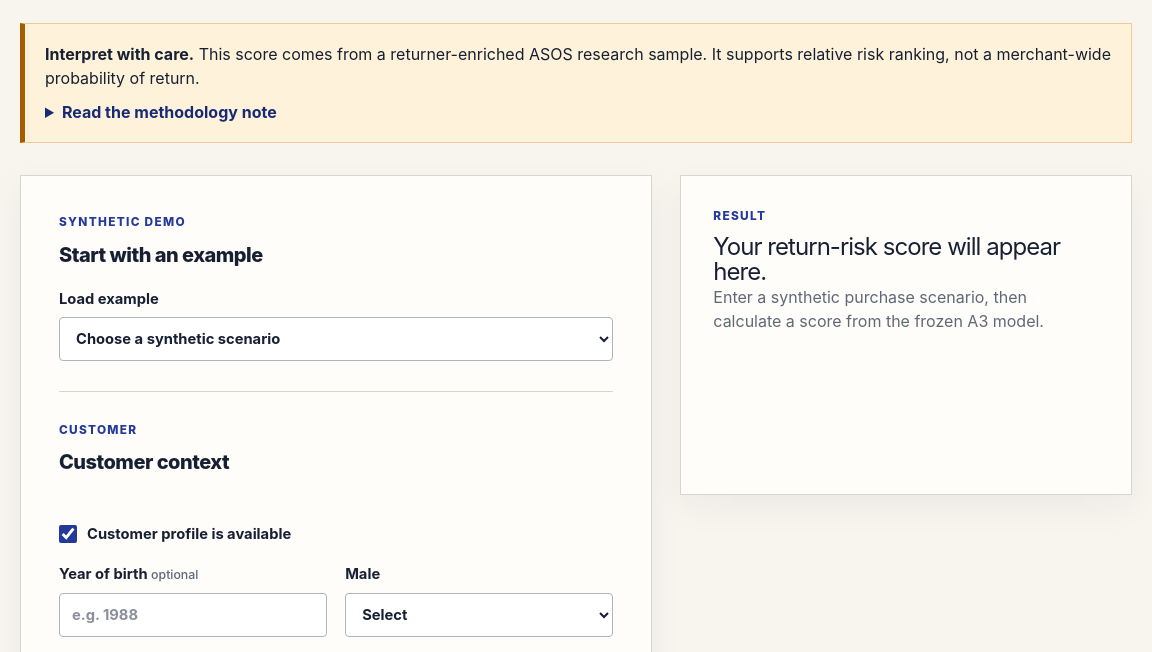
Test: PredictionWorkspace › requests an explanation only for the saved score snapshot
This screenshot has width=1152, height=652.
(page scrolled)
Step 1. Select "Complete profile" in the dropdown labelled "Load example" → (336, 339), box top-left (59, 317), bottom-right (613, 361)
(page scrolled)
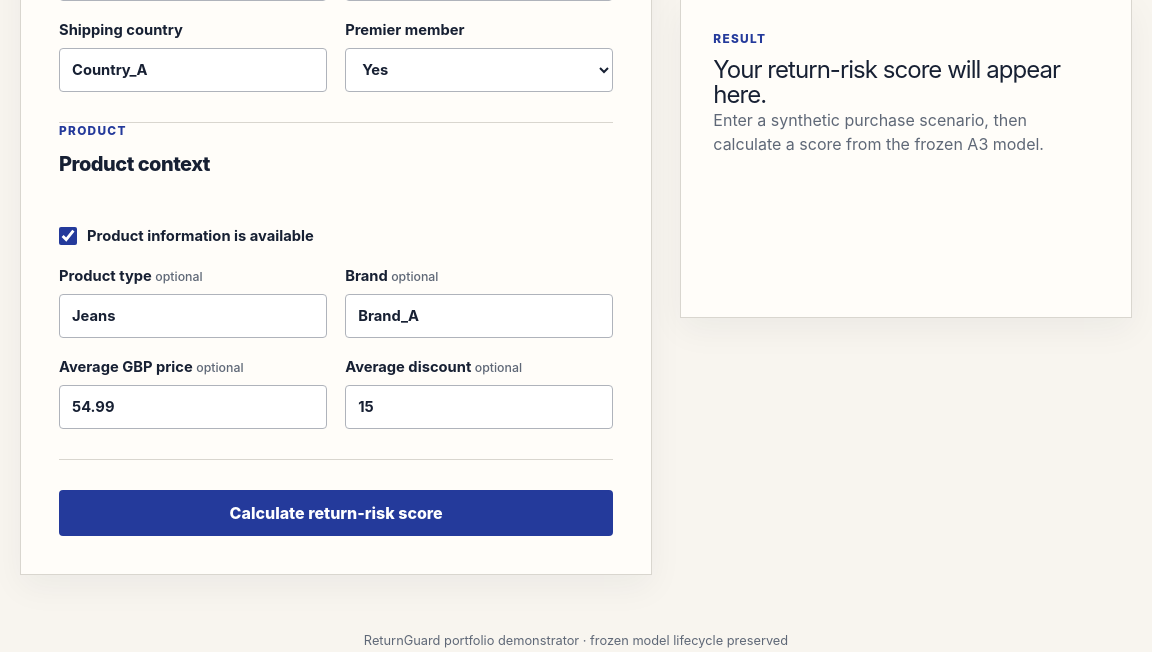
Step 2. Click the button "Calculate return-risk score" → click(336, 513), box top-left (59, 490), bottom-right (613, 536)
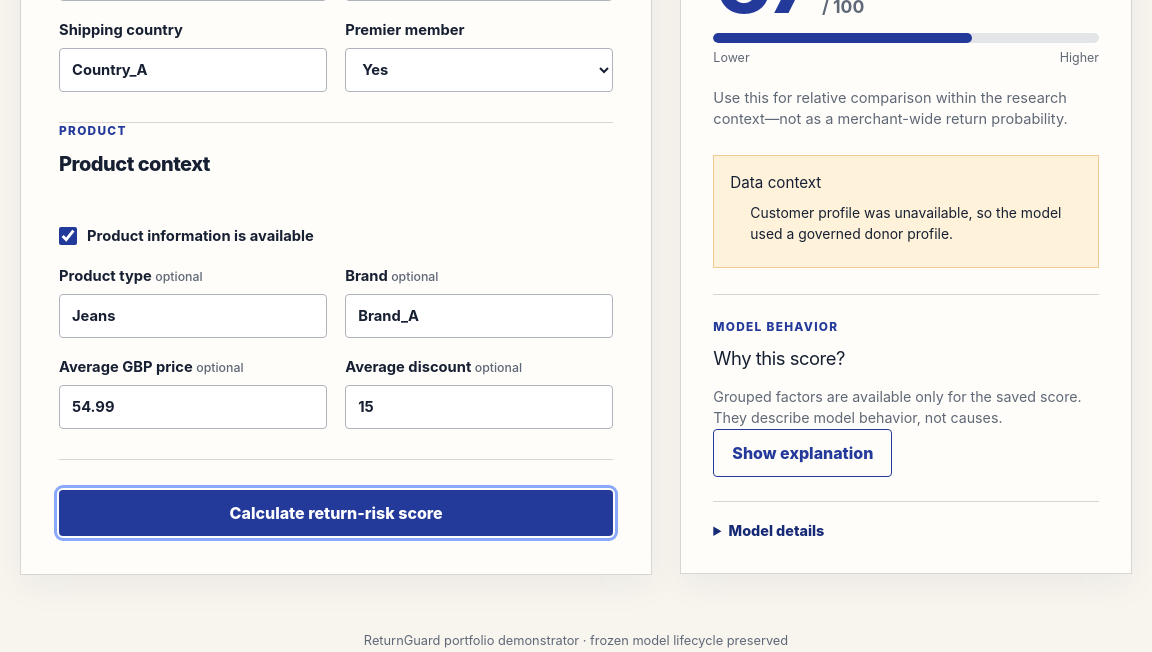
Step 3. Click the button "Show explanation" → click(803, 453), box top-left (713, 429), bottom-right (892, 477)
(page scrolled)
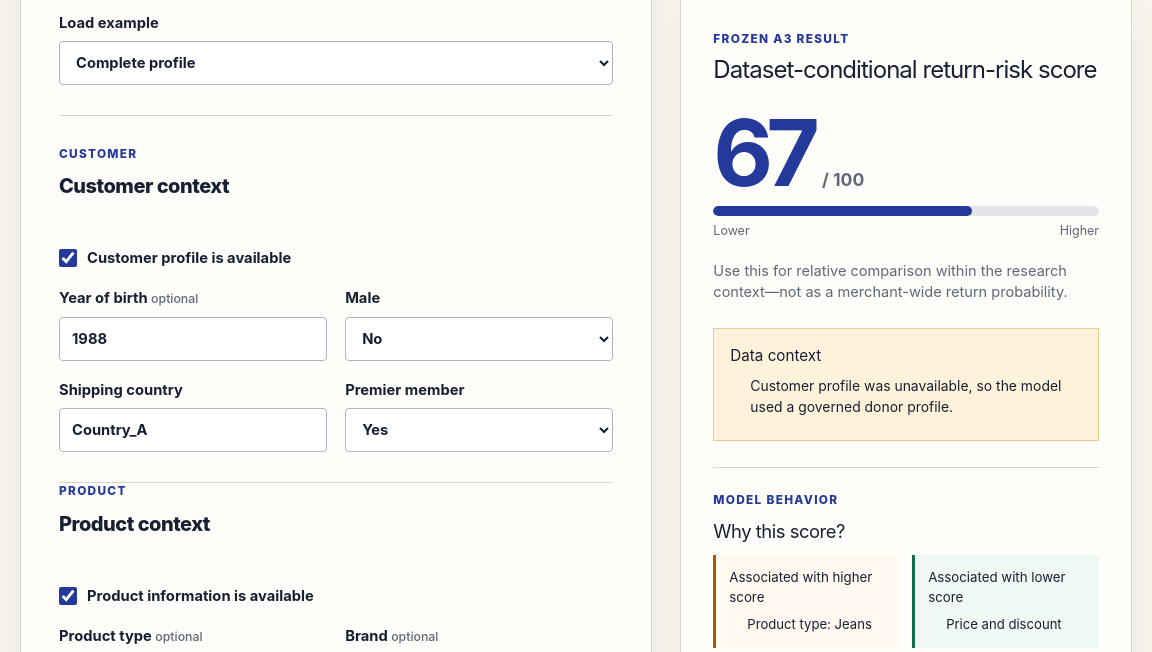
Now the heading "Associated with higher score" is shown, box top-left (729, 568), bottom-right (887, 608)
Step 4. Replace the text in the field labelled "Year of birth optional" with "1989" → (193, 339), box top-left (59, 316), bottom-right (327, 361)
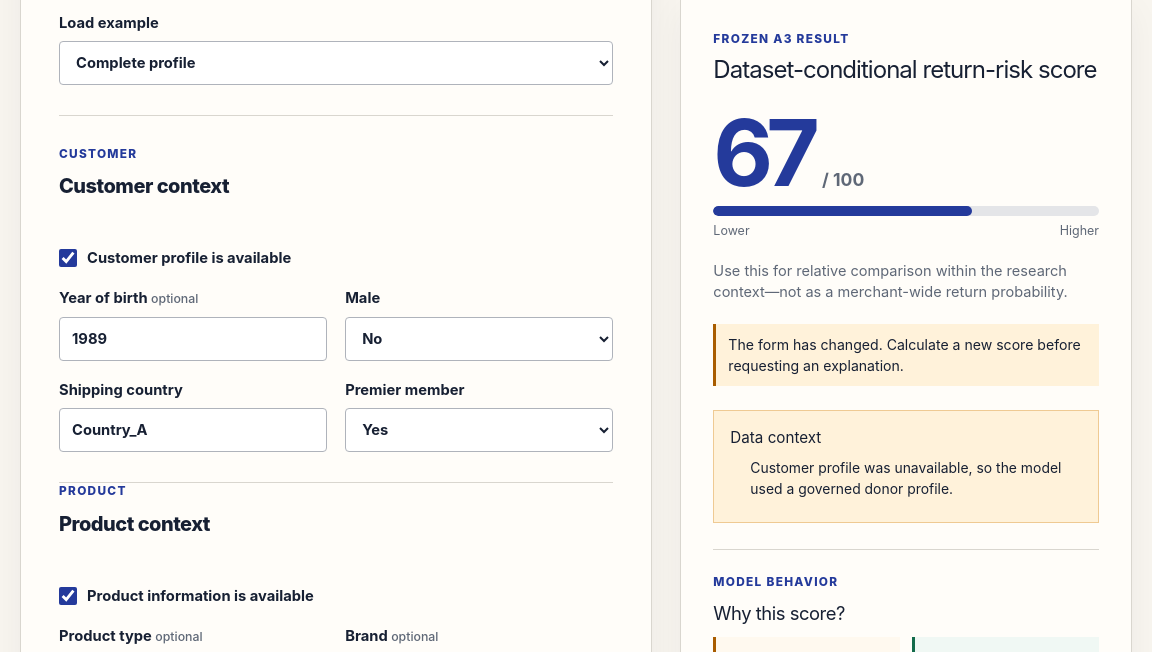
Now the text "form has changed" is shown, box top-left (728, 336), bottom-right (1081, 375)
